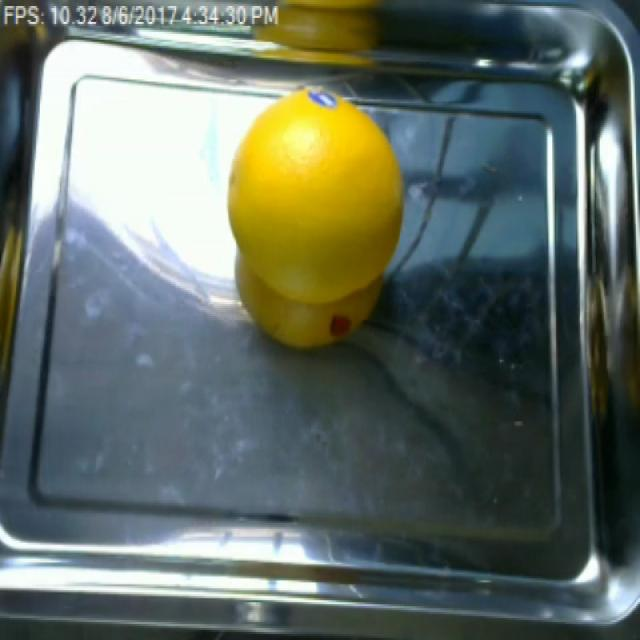Fruit: (220, 89, 407, 354), (245, 0, 404, 70)
